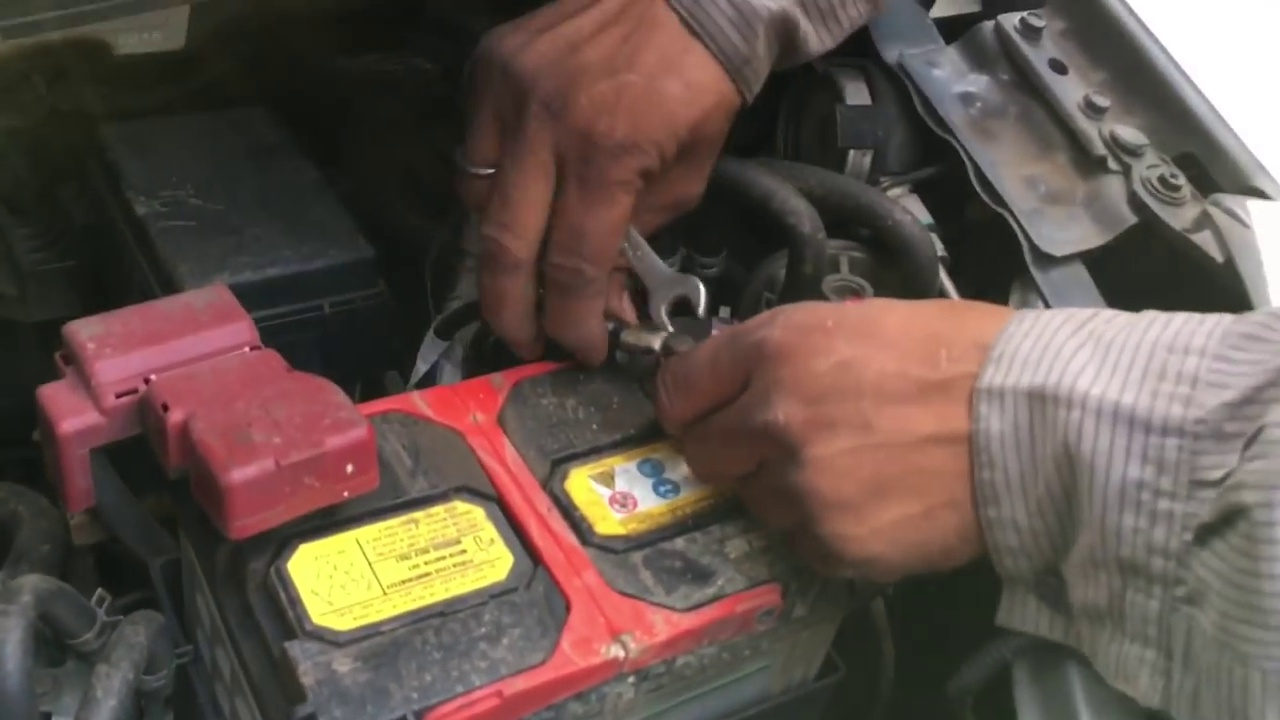battery: (108, 306, 847, 720)
neg_touched: (544, 226, 772, 436)
pos_connected: (40, 272, 397, 561)
